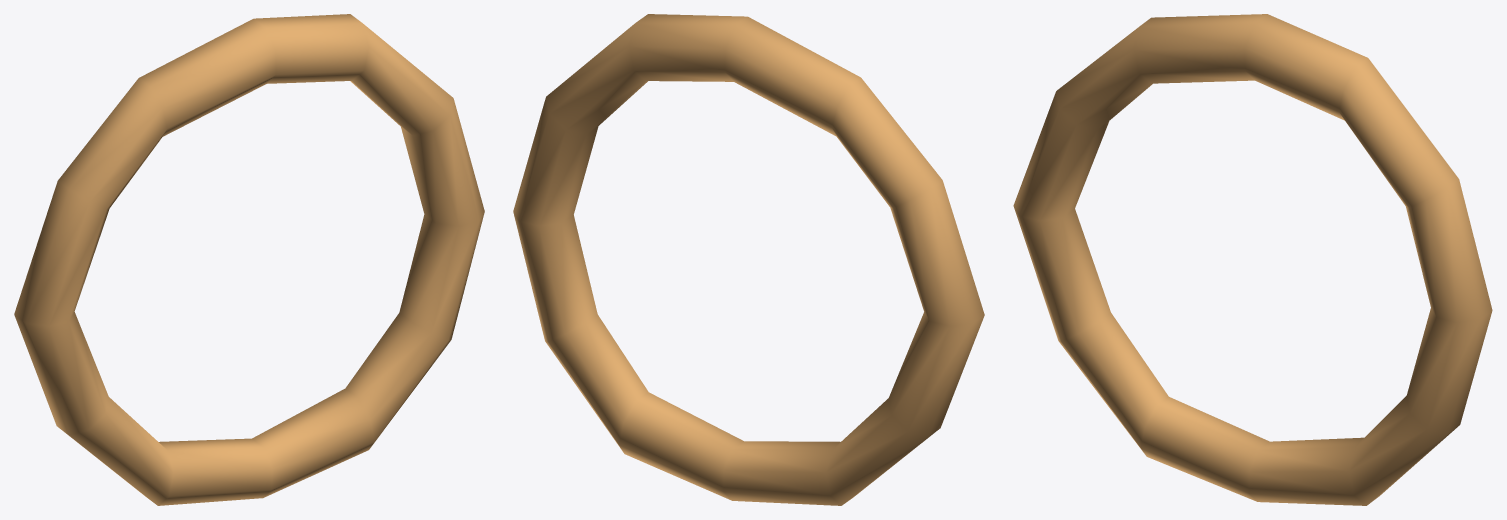
File: SM_SM_PadLockKey_Middle.fbx
The picture shows the model from 3 angles, left to right: view 1: azimuth 30°, elevation 25°; view 2: azimuth 150°, elevation 25°; view 3: azimuth 330°, elevation 25°; orthographic projection.
Parts seen in each view (by area): view 1: SM_PadLockKey_Middle; view 2: SM_PadLockKey_Middle; view 3: SM_PadLockKey_Middle.
Boxes of the visible parts, bbox=[...] form: SM_PadLockKey_Middle: bbox=[14, 14, 484, 505]; SM_PadLockKey_Middle: bbox=[513, 14, 984, 505]; SM_PadLockKey_Middle: bbox=[1013, 14, 1492, 505].
Bounding box in the file's own units: 6.36 × 6.26 × 0.8356.
